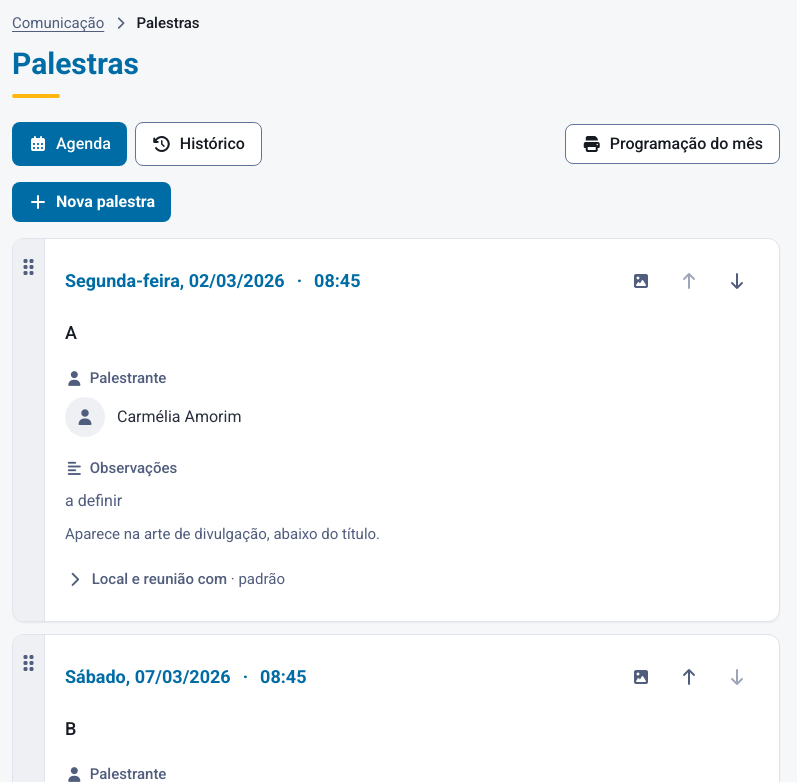
Test: talk board page › refreshes the board and explains a conflict until the notice is closed
The image size is (797, 782).
Click the button named "Mover para baixo: A".
click(737, 281)  # box [715,259,759,303]
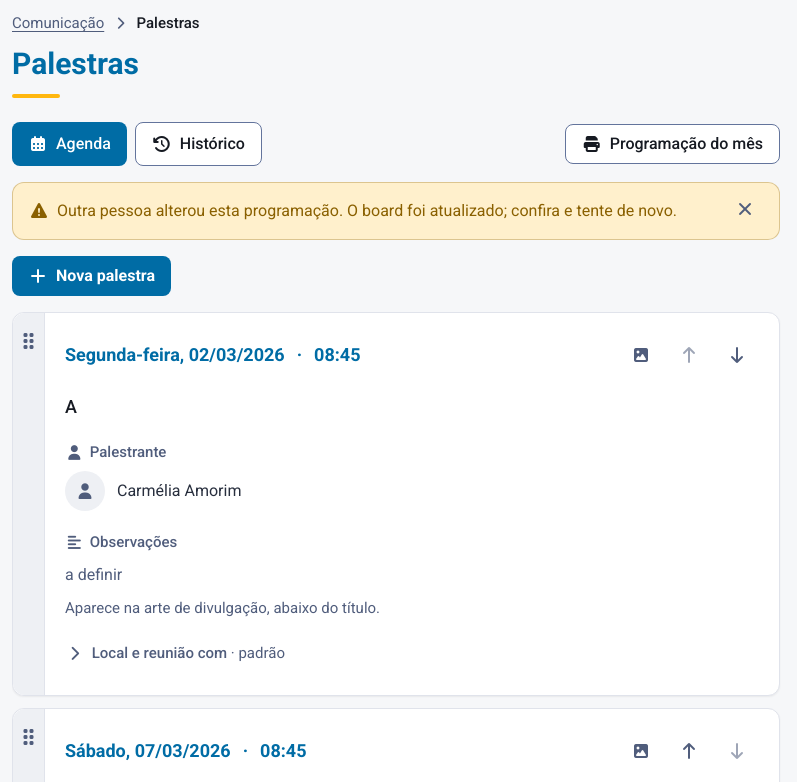
Expected: the message shows "Outra pessoa alterou esta programação. O board foi atualizado; confira e tente de novo.", [57,201,677,220]
Click the button named "Fechar aviso".
click(745, 209)  # box [727,191,763,227]
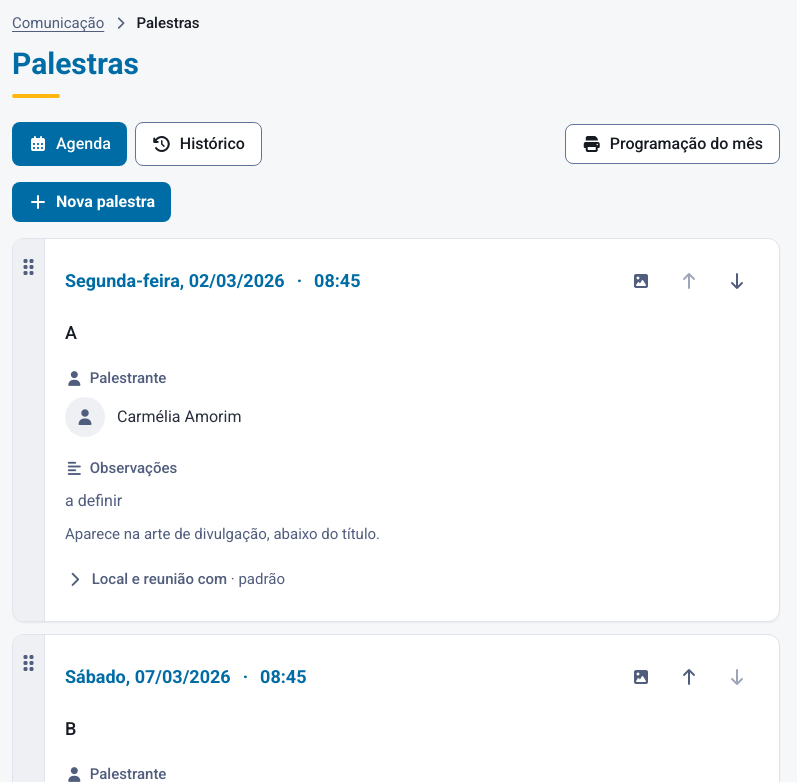
Expected: the message is gone
